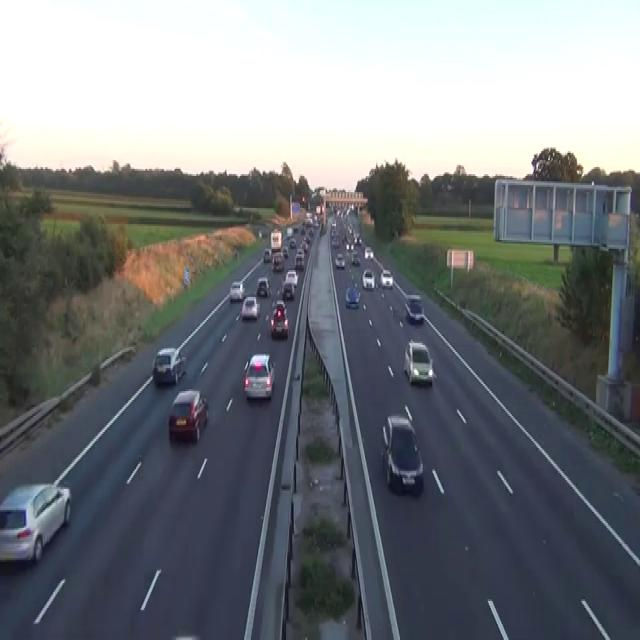Car: (0, 482, 71, 565), (381, 412, 423, 494), (168, 389, 209, 443), (243, 352, 275, 400), (403, 340, 433, 386), (152, 346, 186, 386), (270, 300, 289, 338), (404, 293, 424, 322), (241, 295, 260, 320), (345, 284, 360, 308), (229, 279, 245, 301), (256, 275, 270, 297), (362, 268, 375, 290), (273, 299, 287, 318), (380, 268, 393, 288), (281, 279, 294, 299), (272, 252, 284, 272), (285, 268, 298, 286), (334, 250, 345, 268), (294, 252, 304, 270), (170, 633, 202, 638), (351, 251, 360, 265), (364, 245, 373, 258), (263, 247, 271, 261), (331, 235, 340, 247), (281, 245, 288, 258), (319, 222, 326, 235), (296, 247, 304, 258), (354, 233, 362, 243), (313, 215, 319, 228), (300, 240, 307, 251), (289, 238, 296, 247), (286, 226, 292, 236), (346, 242, 353, 250), (292, 224, 298, 233), (331, 218, 336, 228), (258, 230, 262, 238)
Truck: (270, 229, 281, 251)
